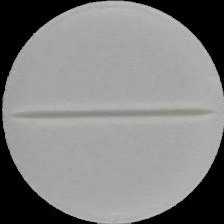68788-6444: (0, 0, 224, 224)
